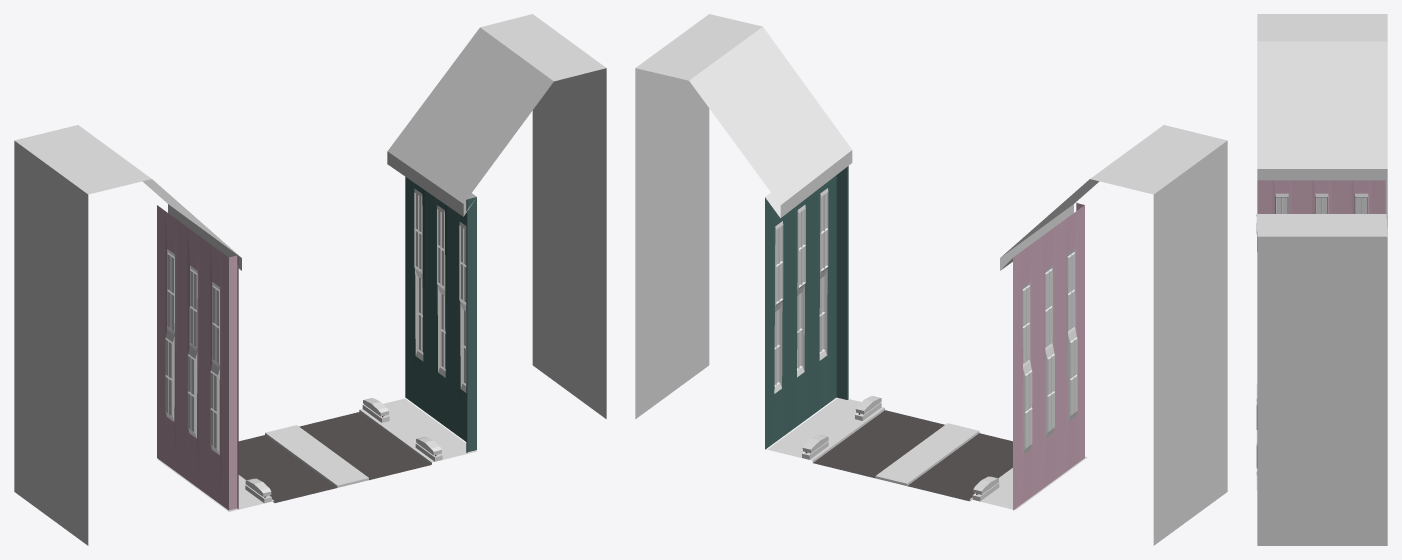
Rendered from RUATileDois 1.fbx.
3 renders of one model, left to right at view 1: azimuth 30°, elevation 25°; view 2: azimuth 150°, elevation 25°; view 3: azimuth 270°, elevation 25°, orthographic. The views are drawn at different scales.
Visible parts, largest first — view 1: RUATiileDois; view 2: RUATiileDois; view 3: RUATiileDois.
Part boxes in pixels (x1=…): RUATiileDois: x1=14, y1=14, x2=606, y2=545; RUATiileDois: x1=635, y1=14, x2=1227, y2=545; RUATiileDois: x1=1256, y1=14, x2=1387, y2=545.
Size of the model in its own units: 2483 by 1619 by 618.
